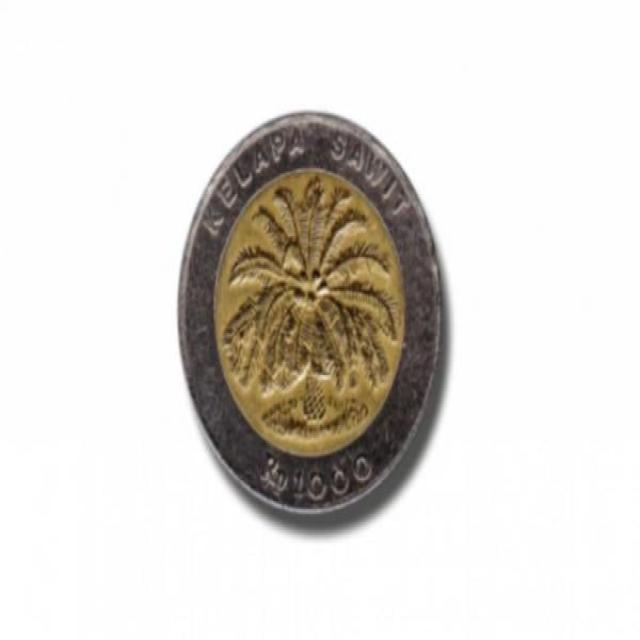1000-sawit: (166, 94, 459, 543)
